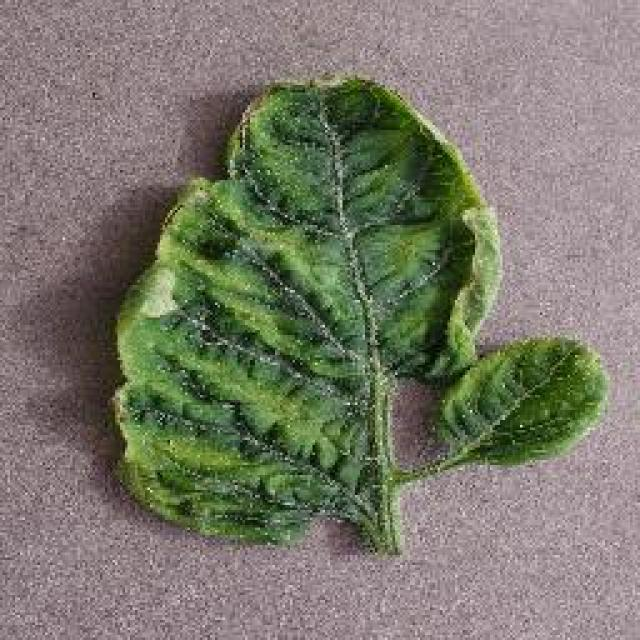Tom_Yellow_Leaf_Curl_Virus: (110, 109, 414, 525)
